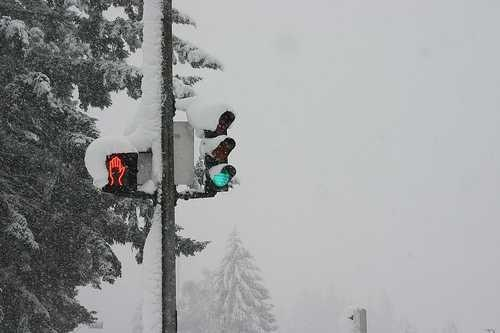2: (194, 102, 236, 197)
7: (99, 152, 138, 189)
red traffic light: (202, 165, 239, 194)
